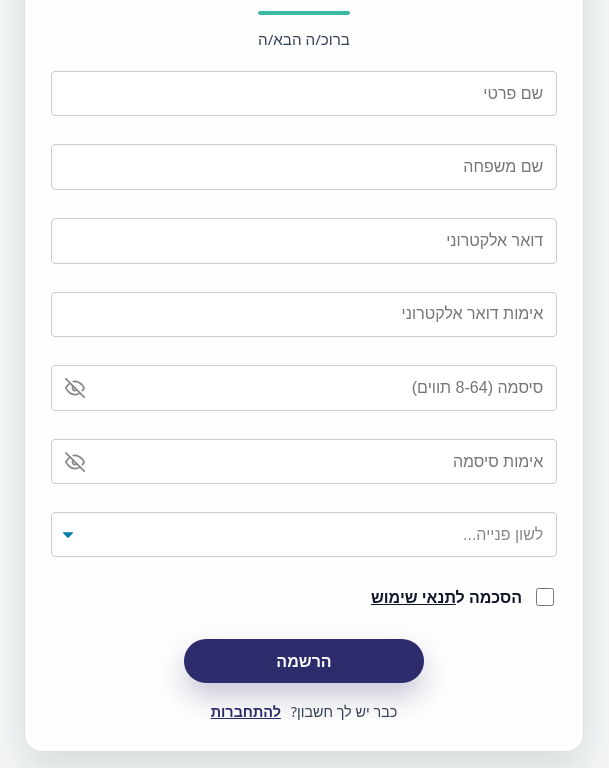
Test: Client-side validation › shows error for empty firstName
(page scrolled)
Click the button "הרשמה".
click(304, 661)  # box x1=184 y1=639 x2=424 y2=683
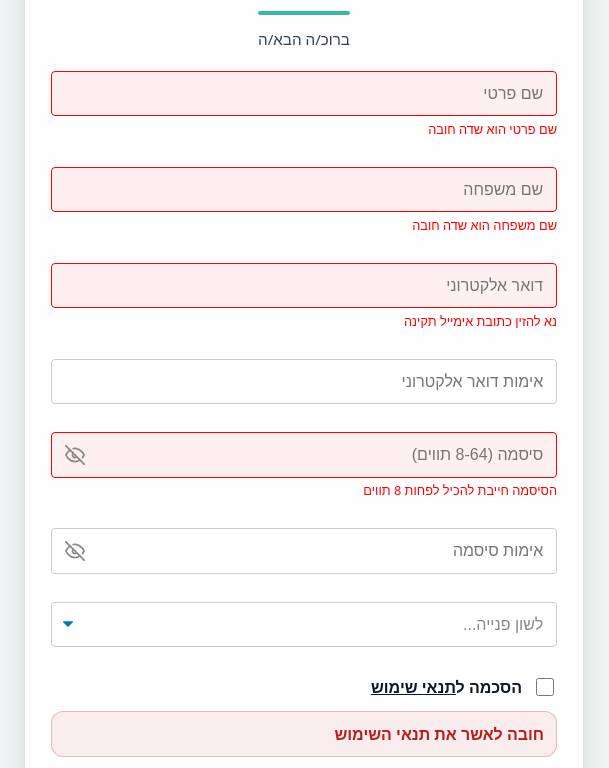
expect the text "שם פרטי הוא שדה חובה" is shown: met, box x1=428 y1=120 x2=557 y2=138
